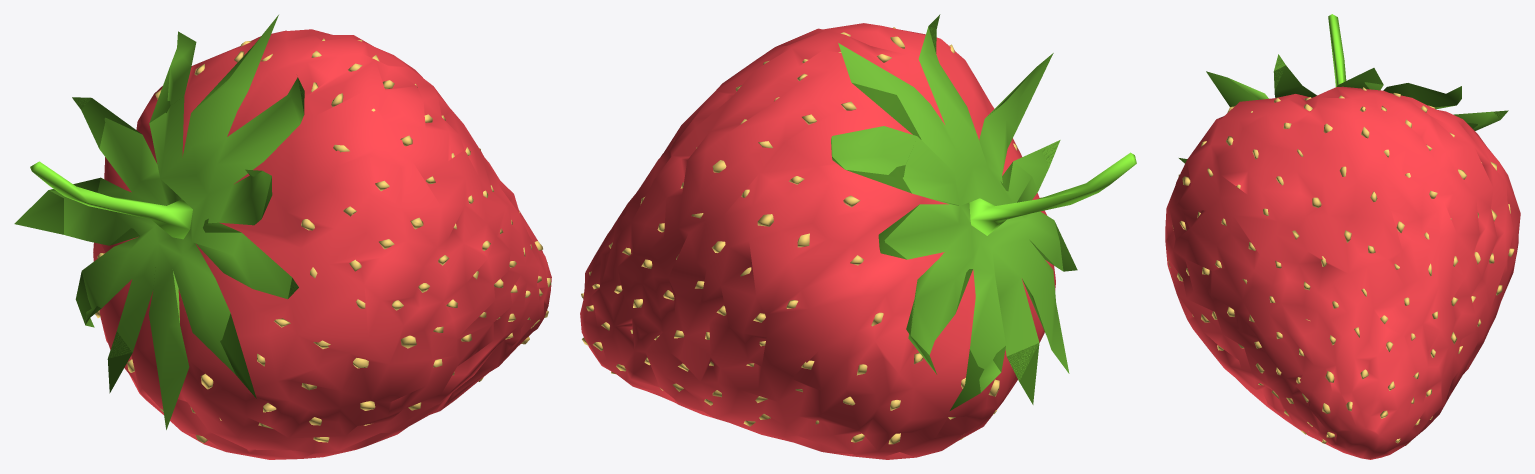
The model's file is Strawberry.fbx.
The picture shows the model from 3 angles, left to right: view 1: azimuth 30°, elevation 25°; view 2: azimuth 150°, elevation 25°; view 3: azimuth 270°, elevation 25°; orthographic projection. The views are drawn at different scales.
Visible parts, largest first — view 1: AM130_024_003; view 2: AM130_024_003; view 3: AM130_024_003.
Boxes of the visible parts, x1,y1,x2,y2 form: AM130_024_003: (14, 15, 551, 459); AM130_024_003: (580, 14, 1136, 459); AM130_024_003: (1165, 14, 1520, 459).
Bounding box in the file's own units: 151 × 109 × 111.
Materials: 1 (1 with a texture image).
